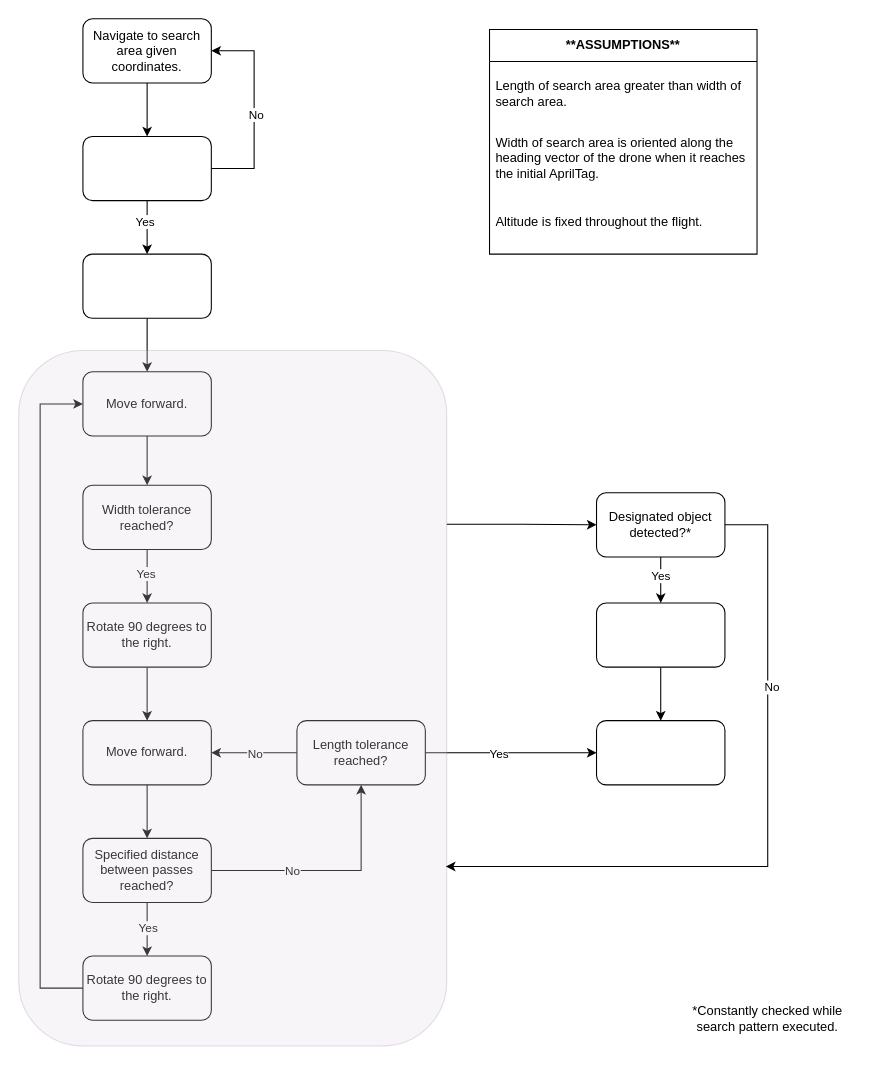
This 872x1065 diagram has some shape labels left out. The centre of each missing label's shape, as x and y in pixels:
Begin fixed-heading lawnmower search pattern.: pixel 146 285
Initial AprilTag detected?: pixel 146 168
Obtain its coordinates.: pixel 660 634
Return to initial AprilTag and hover/land.: pixel 660 752
SEARCH PATTERN INTERNAL STATES: pixel 232 697
